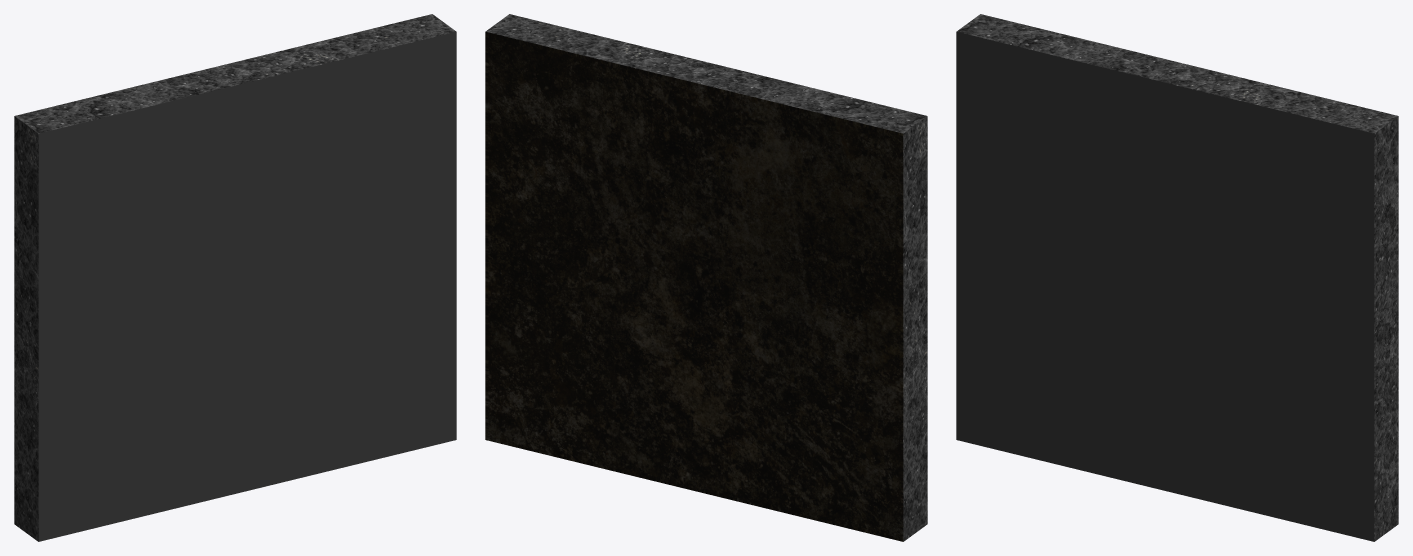
File: SM_WallPlain01.FBX
The picture shows the model from 3 angles, left to right: view 1: azimuth 30°, elevation 25°; view 2: azimuth 150°, elevation 25°; view 3: azimuth 330°, elevation 25°; orthographic projection.
Parts seen in each view (by area): view 1: SM_WallPlain01_LOD0; view 2: SM_WallPlain01_LOD0; view 3: SM_WallPlain01_LOD0.
Part boxes in pixels (x1,y1,x2,y2): SM_WallPlain01_LOD0: (14, 14, 456, 541); SM_WallPlain01_LOD0: (485, 14, 927, 541); SM_WallPlain01_LOD0: (956, 14, 1398, 541).
Size of the model in its own units: 300 by 30 by 280.
